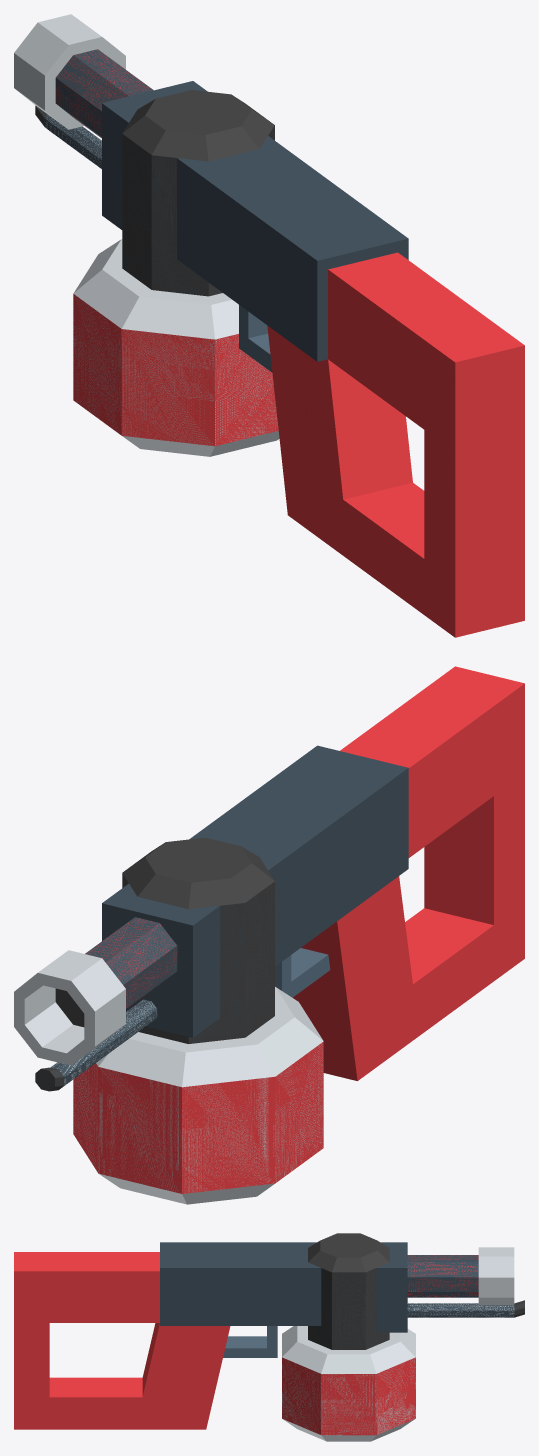
File: flamethrower_short.obj
The picture shows the model from 3 angles, top to bottom: view 1: azimuth 30°, elevation 25°; view 2: azimuth 150°, elevation 25°; view 3: azimuth 270°, elevation 25°; orthographic projection. The views are drawn at different scales.
Visible parts, largest first — view 1: Group; view 2: Group; view 3: Group.
Part boxes in pixels (box(x1,y1,x2,y2)): Group: box(14, 14, 524, 637); Group: box(14, 666, 524, 1204); Group: box(14, 1233, 524, 1441).
Size of the model in its own units: 0.1441 by 0.2067 by 0.5494.
